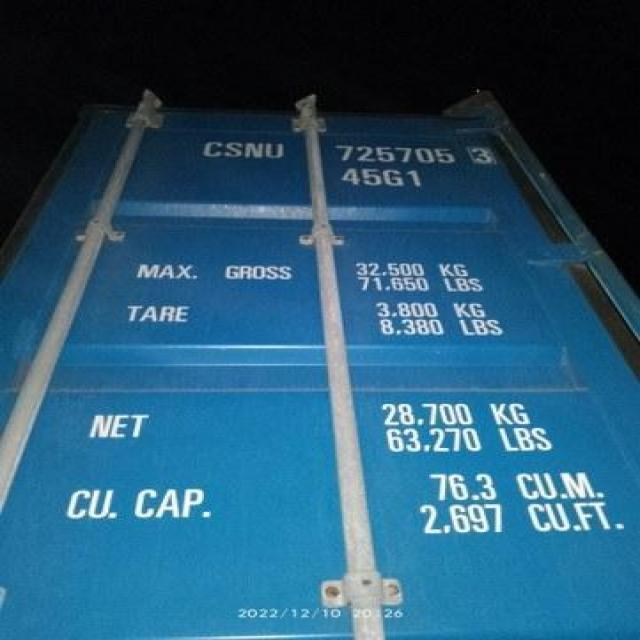container_number_h: (187, 118, 539, 223)
